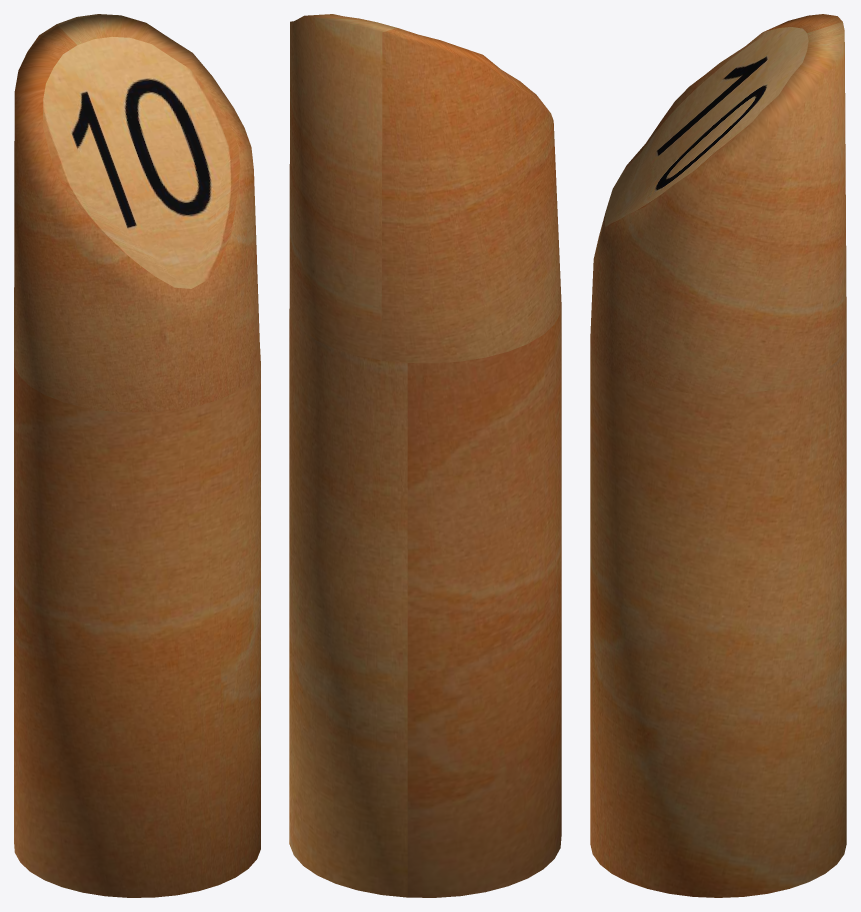
The model's file is molkky10.glb.
3 views of the same model, side by side, from view 1: azimuth 30°, elevation 25°; view 2: azimuth 150°, elevation 25°; view 3: azimuth 270°, elevation 25° (orthographic). The views are drawn at different scales.
Visible parts, largest first — view 1: Cylinder.003; view 2: Cylinder.003; view 3: Cylinder.003.
Part boxes in pixels (bbox=[...]): Cylinder.003: bbox=[14, 14, 260, 897]; Cylinder.003: bbox=[289, 14, 561, 897]; Cylinder.003: bbox=[590, 14, 846, 897].
Size of the model in its own units: 0.4975 by 1.74 by 0.4975.
Materials: 1 (1 with a texture image).
